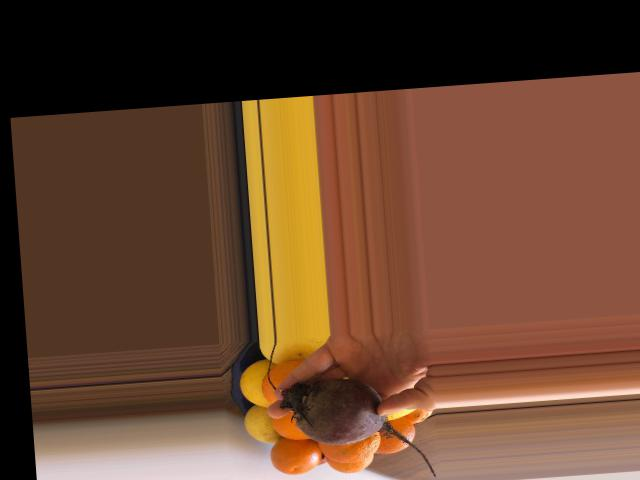beet: (280, 372, 435, 480)
